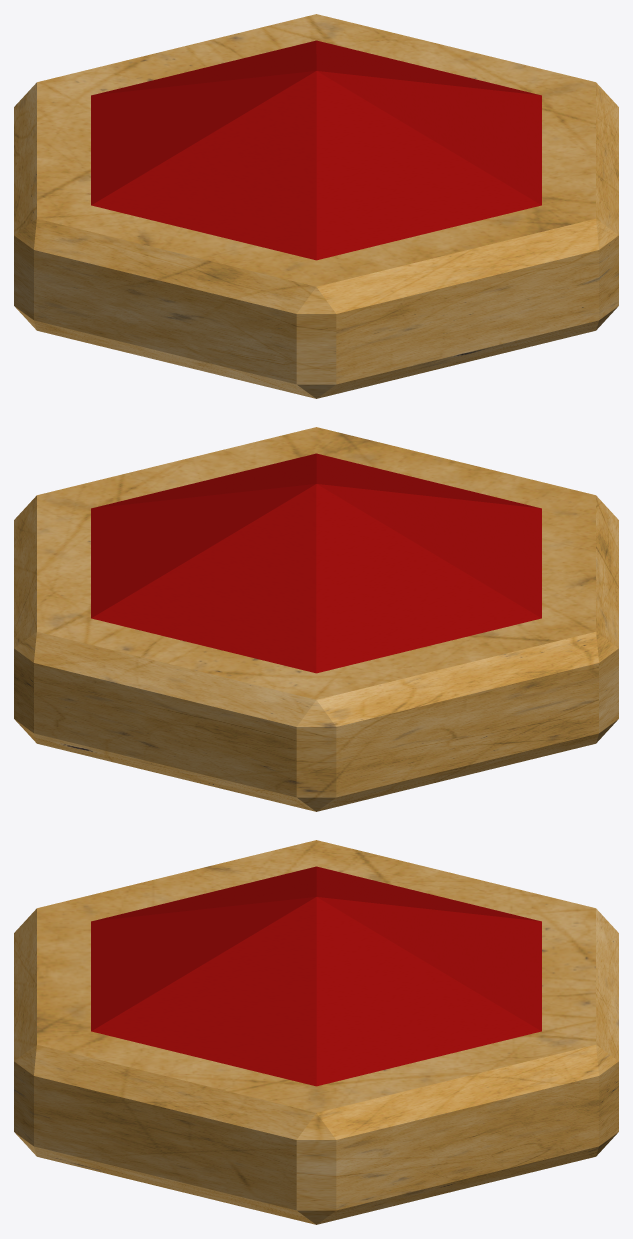
File: Jewel.fbx
3 renders of one model, top to bottom at view 1: azimuth 30°, elevation 25°; view 2: azimuth 150°, elevation 25°; view 3: azimuth 270°, elevation 25°, orthographic.
Visible parts, largest first — view 1: Jewel_LOD0; view 2: Jewel_LOD0; view 3: Jewel_LOD0.
Part boxes in pixels (x1,y1,x2,y2): Jewel_LOD0: (14,14,618,398); Jewel_LOD0: (14,427,618,811); Jewel_LOD0: (14,840,618,1224).
Bounding box in the file's own units: 27.96 × 25.04 × 12.38.
1 material, 1 textured.
